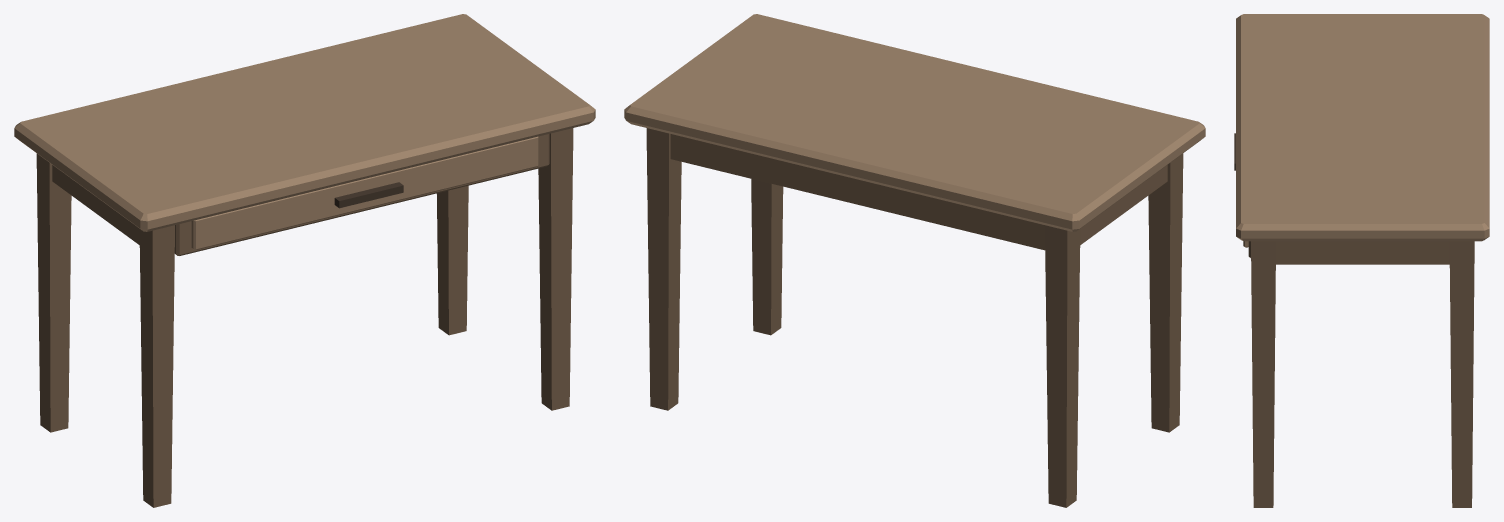
Rendered from Motel_Desk.fbx.
3 views of the same model, side by side, from view 1: azimuth 30°, elevation 25°; view 2: azimuth 150°, elevation 25°; view 3: azimuth 270°, elevation 25° (orthographic). The views are drawn at different scales.
Parts seen in each view (by area): view 1: Motel_Desk; view 2: Motel_Desk; view 3: Motel_Desk.
Boxes of the visible parts, bbox=[...] form: Motel_Desk: bbox=[14, 14, 595, 507]; Motel_Desk: bbox=[624, 14, 1205, 507]; Motel_Desk: bbox=[1234, 14, 1489, 507].
Size of the model in its own units: 1.2 by 0.76 by 0.604.
